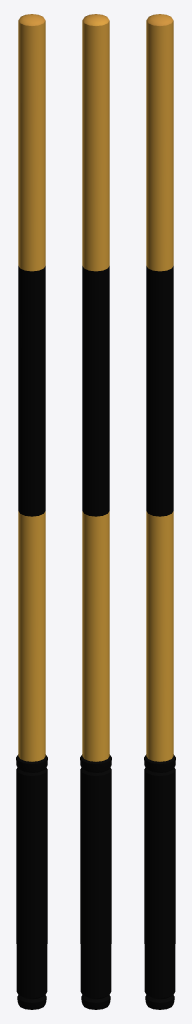
Rendered from Sea_Mark_Cardinal_West.fbx.
The picture shows the model from 3 angles, left to right: view 1: azimuth 30°, elevation 25°; view 2: azimuth 150°, elevation 25°; view 3: azimuth 330°, elevation 25°; orthographic projection.
Parts seen in each view (by area): view 1: Mdl_SeaSign_Cardinal_West; view 2: Mdl_SeaSign_Cardinal_West; view 3: Mdl_SeaSign_Cardinal_West.
Boxes of the visible parts, bbox=[...] form: Mdl_SeaSign_Cardinal_West: bbox=[16, 14, 47, 1009]; Mdl_SeaSign_Cardinal_West: bbox=[80, 14, 111, 1009]; Mdl_SeaSign_Cardinal_West: bbox=[144, 14, 175, 1009].
Bounding box in the file's own units: 0.0583 × 2.01 × 0.0583.
